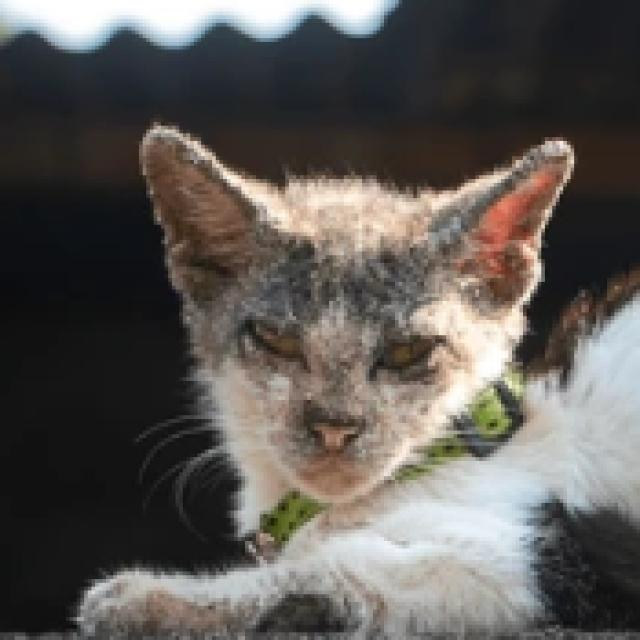Mange: (140, 122, 279, 260), (488, 230, 554, 310), (321, 317, 370, 389)
